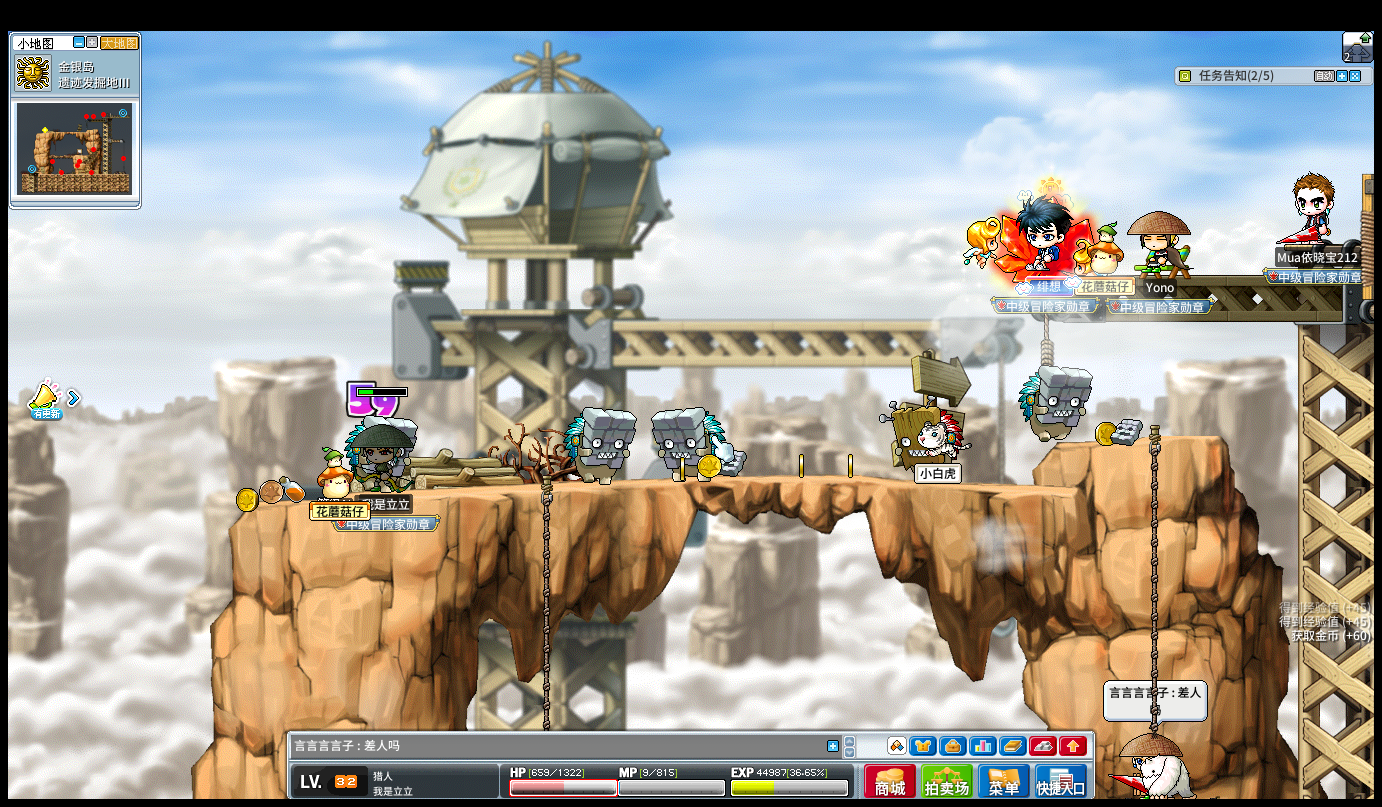floor: (240, 471, 1148, 502), (274, 471, 1109, 494), (1062, 430, 1225, 447)
monster: (882, 393, 966, 481), (1017, 364, 1093, 443), (651, 406, 727, 481), (563, 406, 636, 484)
rope: (1145, 422, 1160, 719), (538, 467, 551, 767), (540, 470, 552, 680)
